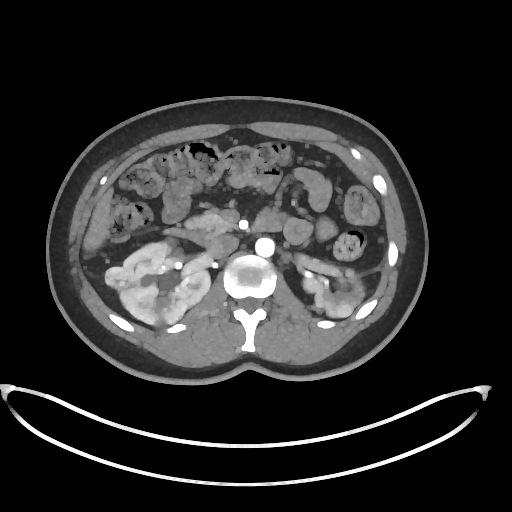Lesion: (100, 265, 133, 294)
